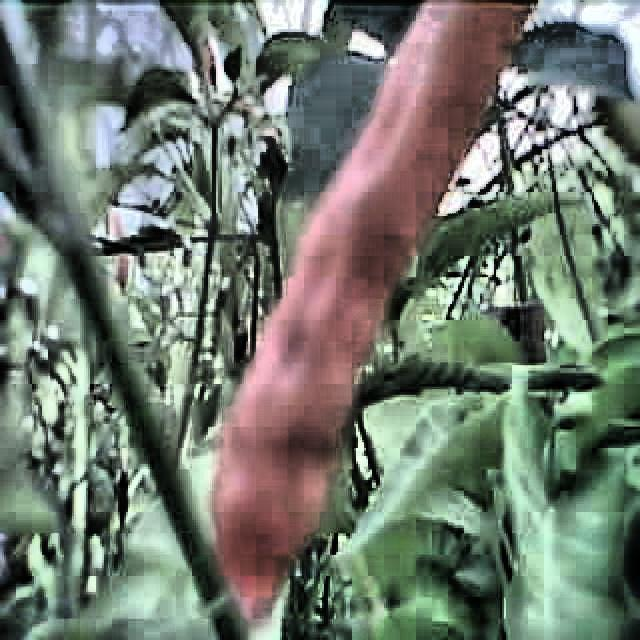Cabai: (246, 39, 468, 574)
